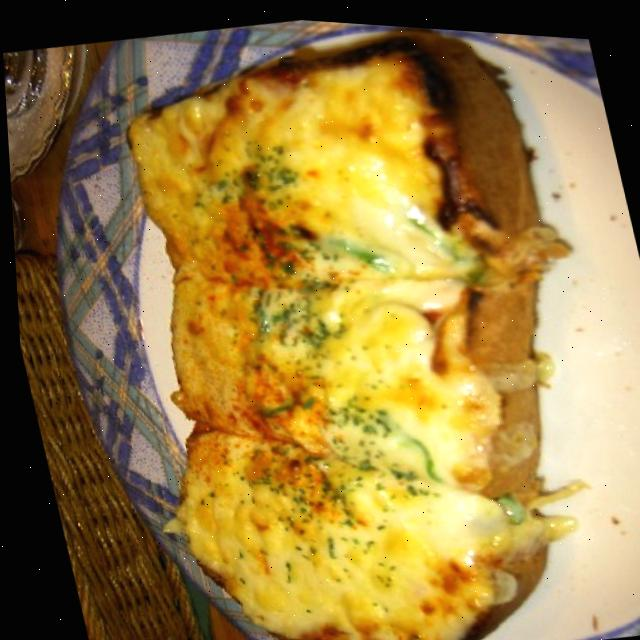面包点心: (49, 3, 640, 640)
